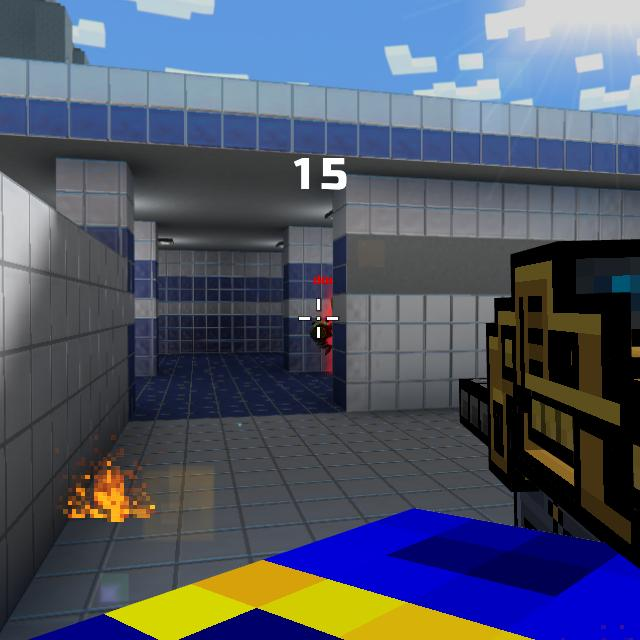Enemy: (325, 298, 335, 377)
